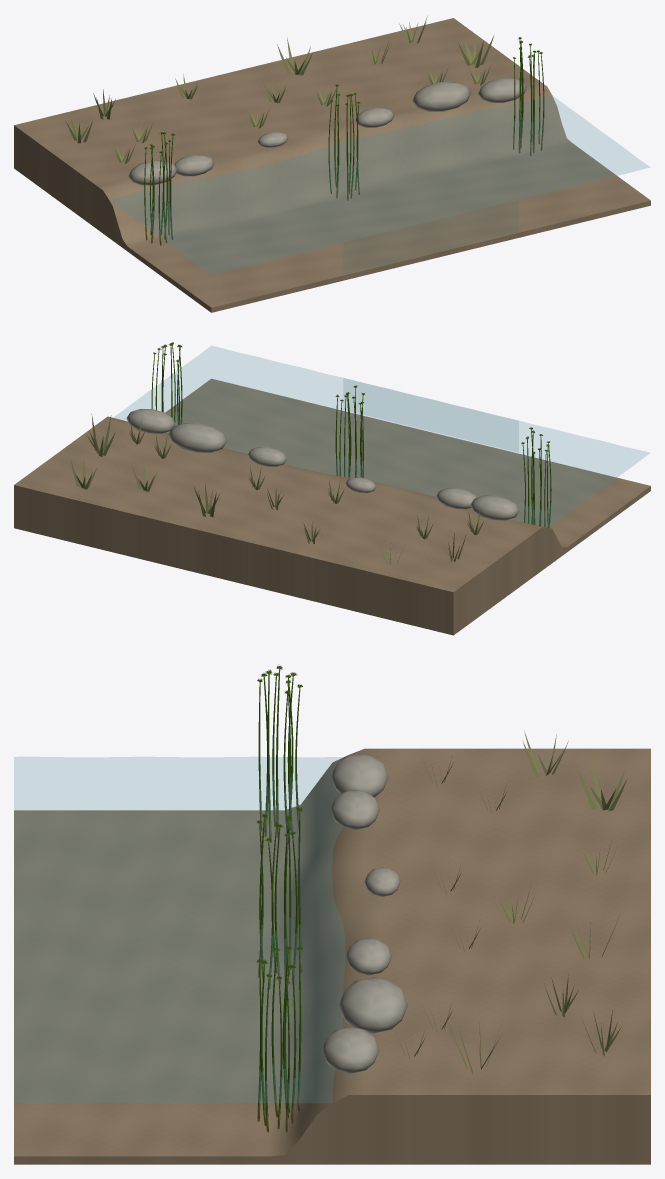
The model's file is mdl_ra5_entorno_acuatico.fbx.
The picture shows the model from 3 angles, top to bottom: view 1: azimuth 30°, elevation 25°; view 2: azimuth 150°, elevation 25°; view 3: azimuth 270°, elevation 25°; orthographic projection. The views are drawn at different scales.
Visible parts, largest first — view 1: SM_Terreno_Orilla_Lecho, SM_Agua_RioLaguna, SM_Agua_VentanaPeces, SM_RocaOrilla_4, SM_RocaOrilla_5, SM_RocaOrilla_0, SM_RocaOrilla_1, SM_RocaOrilla_3, SM_Hierba_Ribera_Detalle_07; view 2: SM_Terreno_Orilla_Lecho, SM_Agua_RioLaguna, SM_RocaOrilla_4, SM_RocaOrilla_0, SM_RocaOrilla_5, SM_RocaOrilla_1, SM_RocaOrilla_3; view 3: SM_Terreno_Orilla_Lecho, SM_Agua_RioLaguna, SM_RocaOrilla_4, SM_RocaOrilla_5, SM_RocaOrilla_0, SM_RocaOrilla_1, SM_RocaOrilla_3, SM_RocaOrilla_2, SM_Hierba_Ribera_Detalle_01.
Boxes of the visible parts, <box> form: SM_Terreno_Orilla_Lecho: <box>14,18,650,312</box>; SM_Agua_RioLaguna: <box>110,96,649,274</box>; SM_Agua_VentanaPeces: <box>344,200,518,273</box>; SM_RocaOrilla_4: <box>412,82,470,111</box>; SM_RocaOrilla_5: <box>478,78,526,102</box>; SM_RocaOrilla_0: <box>128,160,177,185</box>; SM_RocaOrilla_1: <box>174,155,214,176</box>; SM_RocaOrilla_3: <box>355,108,394,127</box>; SM_Hierba_Ribera_Detalle_07: <box>456,35,494,67</box>; SM_Terreno_Orilla_Lecho: <box>14,378,650,635</box>; SM_Agua_RioLaguna: <box>114,346,649,526</box>; SM_RocaOrilla_4: <box>168,423,226,452</box>; SM_RocaOrilla_0: <box>470,495,519,520</box>; SM_RocaOrilla_5: <box>126,409,175,433</box>; SM_RocaOrilla_1: <box>436,488,476,509</box>; SM_RocaOrilla_3: <box>248,447,286,466</box>; SM_Terreno_Orilla_Lecho: <box>14,748,650,1164</box>; SM_Agua_RioLaguna: <box>14,757,345,1102</box>; SM_RocaOrilla_4: <box>338,977,407,1033</box>; SM_RocaOrilla_5: <box>322,1026,379,1073</box>; SM_RocaOrilla_0: <box>331,753,388,797</box>; SM_RocaOrilla_1: <box>330,789,379,829</box>; SM_RocaOrilla_3: <box>345,938,391,975</box>; SM_RocaOrilla_2: <box>364,867,400,896</box>; SM_Hierba_Ribera_Detalle_01: <box>577,757,627,810</box>.
Bounding box in the file's own units: 4.95 × 1.23 × 3.85.
